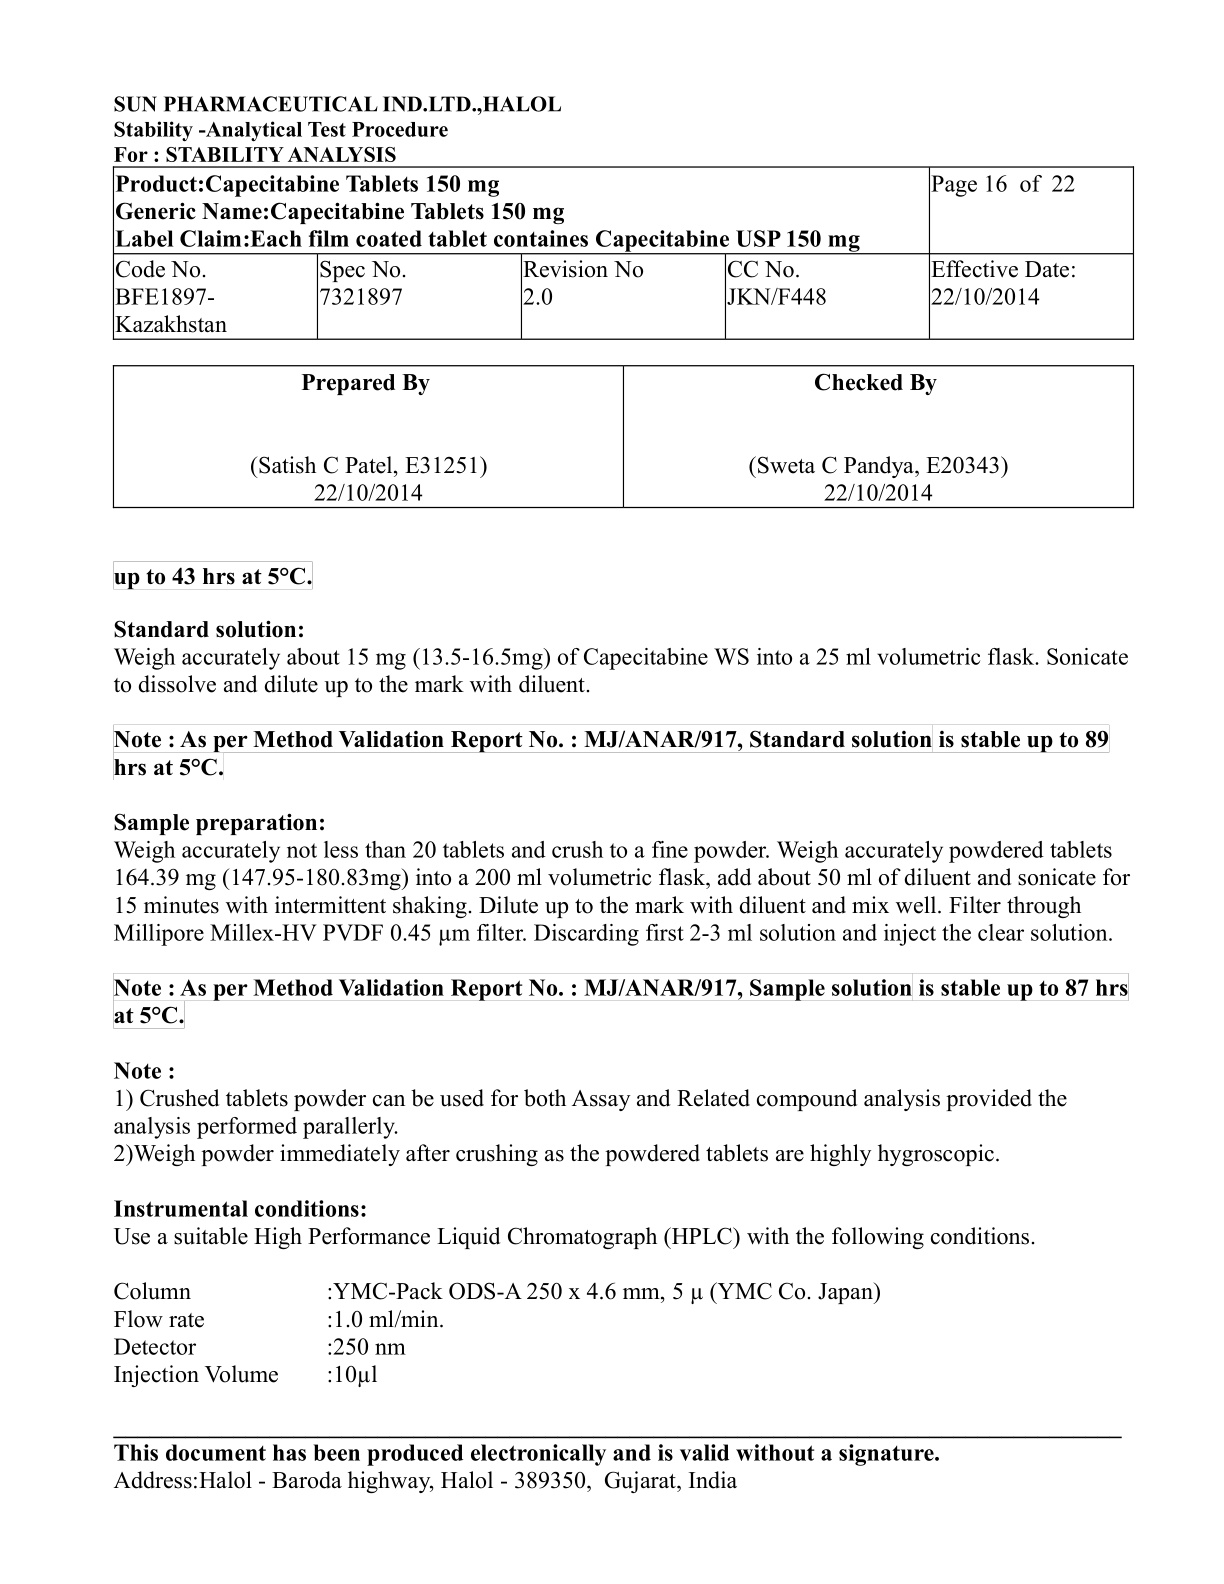full_lined: (112, 364, 1134, 509)
merged_cells: (112, 165, 1134, 341)
